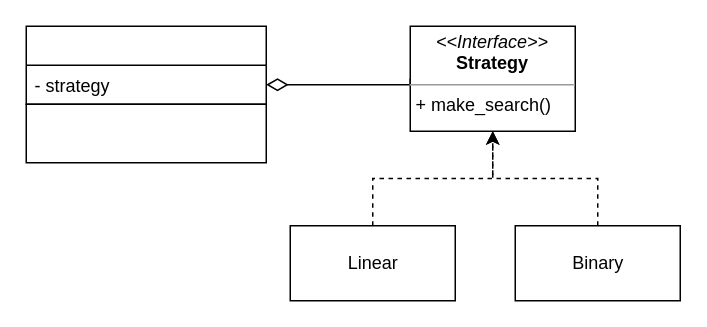
The diagram is 707 pixels wide and 327 high, and some of its shapes have lost their labels. Here are the shapes that lost their labels. From the top down, the box of each, then its label:
(25, 25, 266, 104): Data
(25, 103, 266, 163): + setStrategy() + make_search
